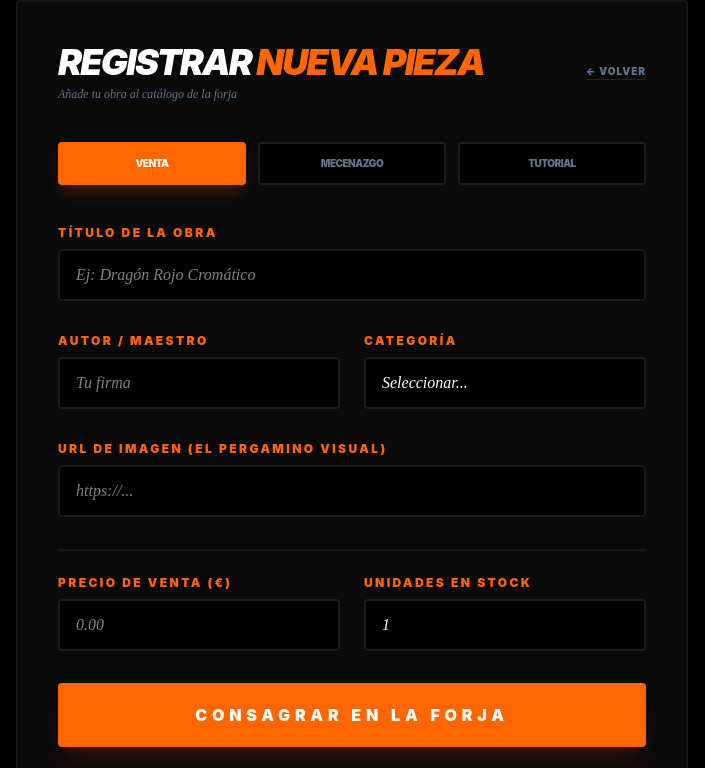
Scenario: NuevoProducto — campos dinámicos por tipo › al cambiar a TUTORIAL aparece el campo duración (placeholder 2 horas)
Click the button "TUTORIAL": (552, 164) [458,142,646,185]
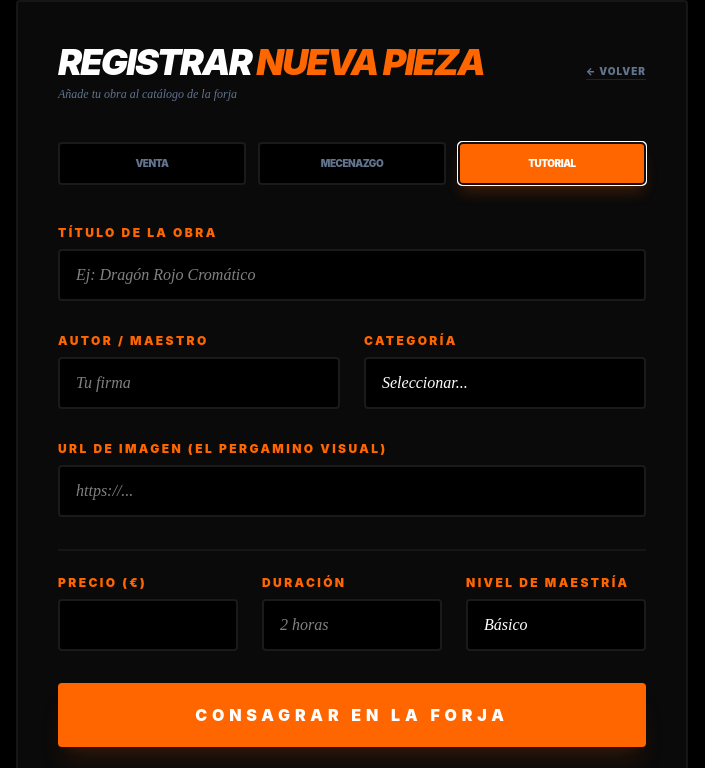
Now the field with placeholder "2 horas" is shown, box [262,599,442,651]
